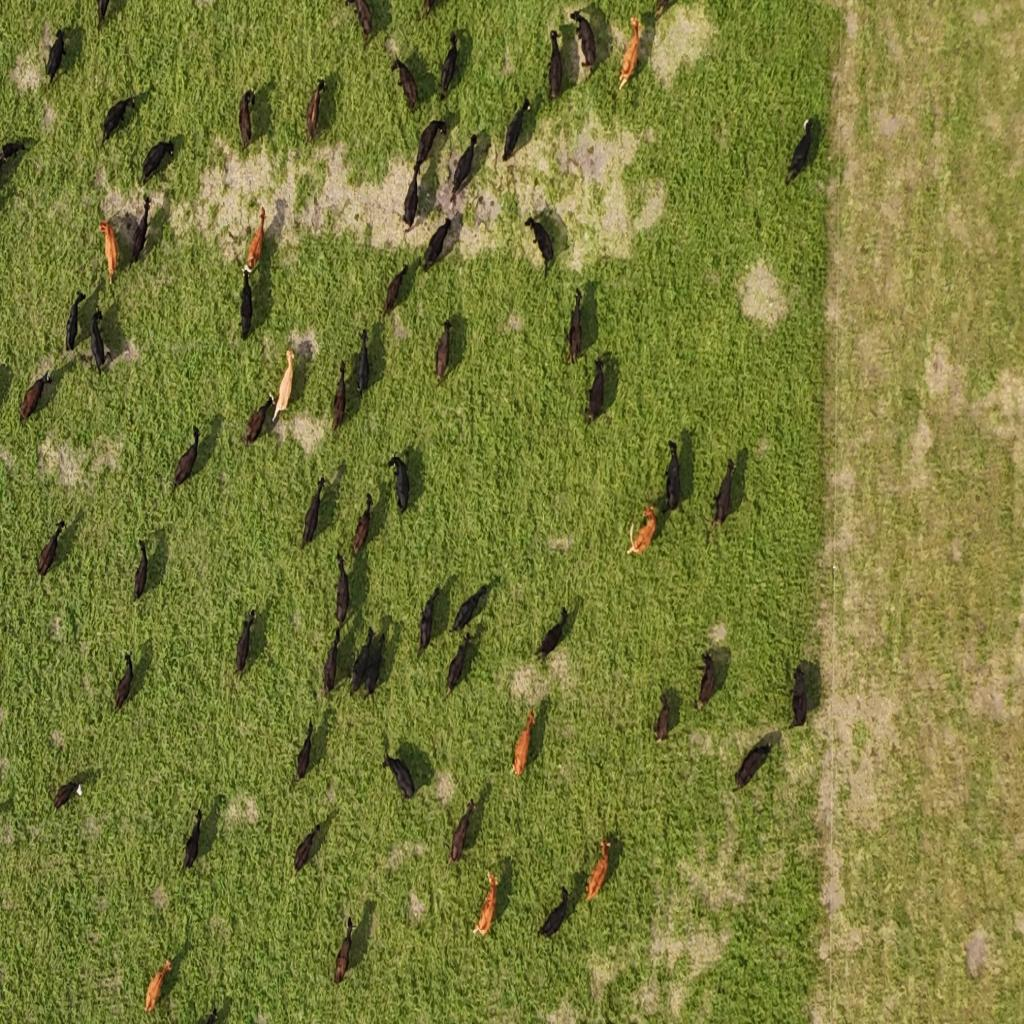cow: (229, 80, 259, 150), (732, 738, 772, 790), (786, 118, 817, 184), (450, 583, 489, 635), (502, 95, 531, 164), (449, 134, 478, 202), (300, 476, 326, 551), (382, 744, 415, 802), (710, 458, 735, 534), (570, 9, 597, 79), (413, 117, 446, 174), (172, 426, 200, 492), (445, 630, 472, 697), (584, 835, 610, 904), (525, 214, 553, 278), (537, 606, 569, 662), (618, 15, 641, 92), (37, 518, 66, 579), (472, 870, 498, 938), (101, 97, 137, 146), (448, 798, 475, 863), (349, 626, 374, 696), (625, 504, 657, 558), (272, 349, 295, 424), (511, 709, 535, 780), (20, 371, 53, 422), (538, 885, 569, 939), (244, 204, 266, 278), (390, 56, 419, 112), (422, 217, 451, 273), (145, 958, 173, 1015), (234, 606, 256, 678), (243, 395, 274, 446), (141, 138, 174, 185), (130, 195, 151, 267), (584, 358, 606, 425), (293, 819, 320, 873), (418, 586, 439, 655), (333, 915, 353, 985), (388, 452, 410, 515), (663, 440, 681, 516), (305, 79, 326, 144), (98, 218, 119, 283), (344, 0, 373, 47), (181, 804, 201, 872), (90, 306, 110, 373), (566, 288, 583, 366), (439, 32, 459, 97), (322, 625, 340, 697), (114, 651, 134, 715), (352, 494, 372, 558), (334, 549, 350, 629), (384, 264, 408, 317), (696, 650, 716, 712), (66, 289, 85, 353), (790, 663, 808, 730), (3, 130, 31, 172), (53, 775, 83, 813), (547, 32, 563, 103), (402, 169, 420, 232), (434, 317, 451, 383), (45, 29, 65, 85), (296, 713, 312, 781), (332, 360, 346, 432), (356, 326, 370, 398), (240, 271, 254, 341), (133, 538, 148, 602), (654, 690, 671, 743), (96, 0, 112, 28), (418, 1, 437, 22)
